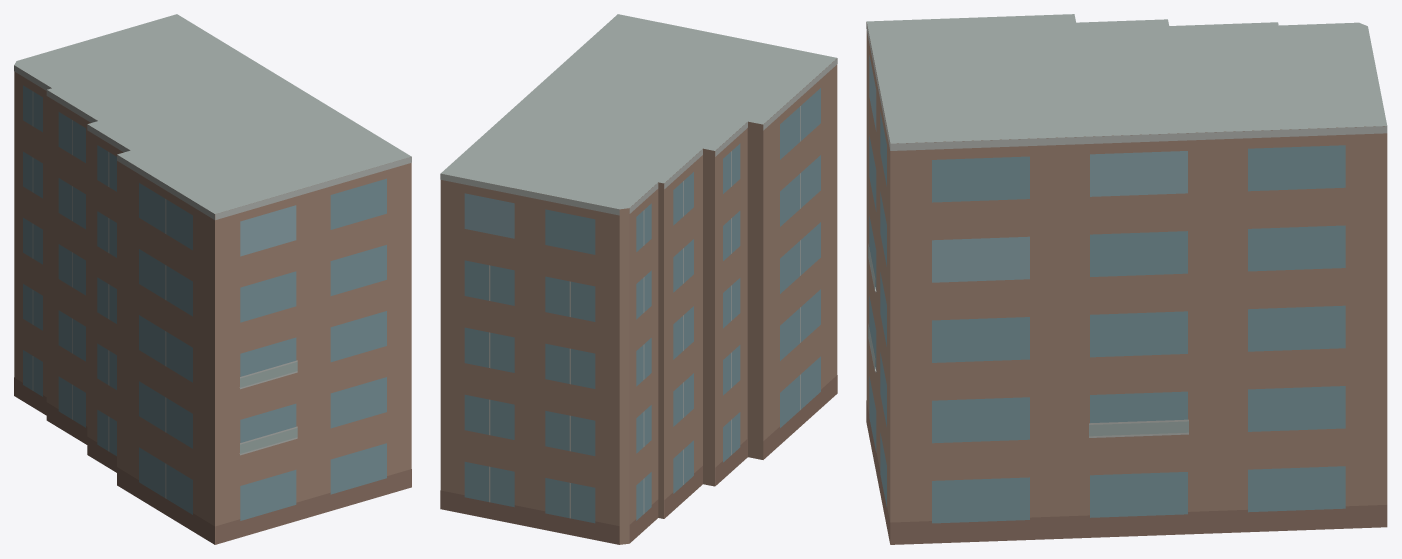
The model's file is survey-upis-32843651.glb.
3 renders of one model, left to right at view 1: azimuth 30°, elevation 25°; view 2: azimuth 150°, elevation 25°; view 3: azimuth 270°, elevation 25°, orthographic. The views are drawn at different scales.
Parts seen in each view (by area): view 1: survey-upis-32843651.tmp; view 2: survey-upis-32843651.tmp; view 3: survey-upis-32843651.tmp.
Part boxes in pixels (bbox=[...]): survey-upis-32843651.tmp: bbox=[14, 14, 411, 544]; survey-upis-32843651.tmp: bbox=[440, 14, 837, 544]; survey-upis-32843651.tmp: bbox=[866, 14, 1387, 544].
Bounding box in the file's own units: 9.19 × 13.25 × 15.6.
